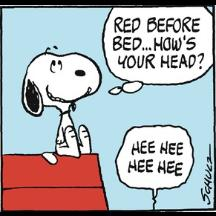snoopy: (22, 45, 102, 165)
